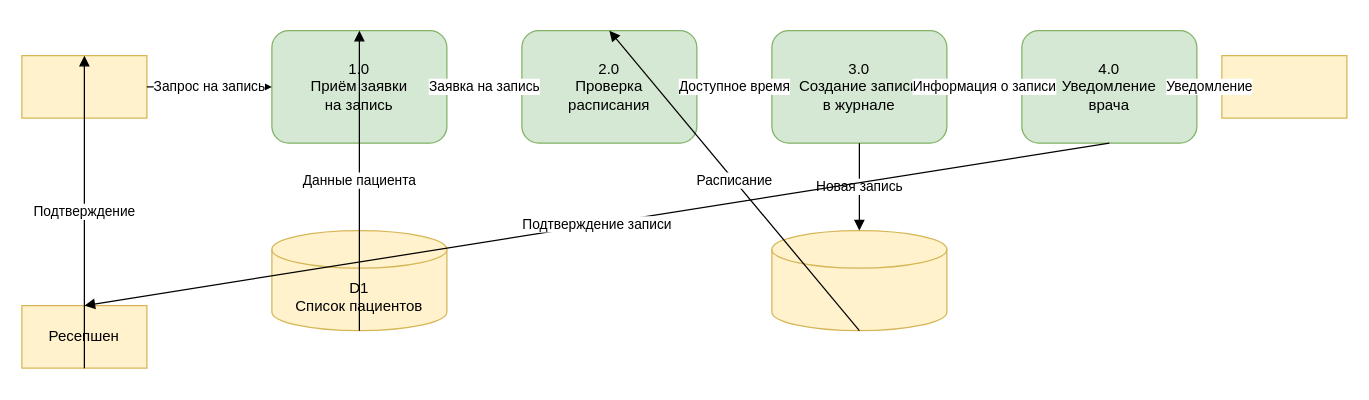
The diagram is 1369 pixels wide and 400 high, and some of its shapes have lost their labels. Here are the shapes that lost their labels. From the top down, the centre of each, then its label:
At point (84, 86): "Пациент".
At point (1284, 86): "Врач".
At point (859, 280): "D2 Журналы записей (Excel)".
